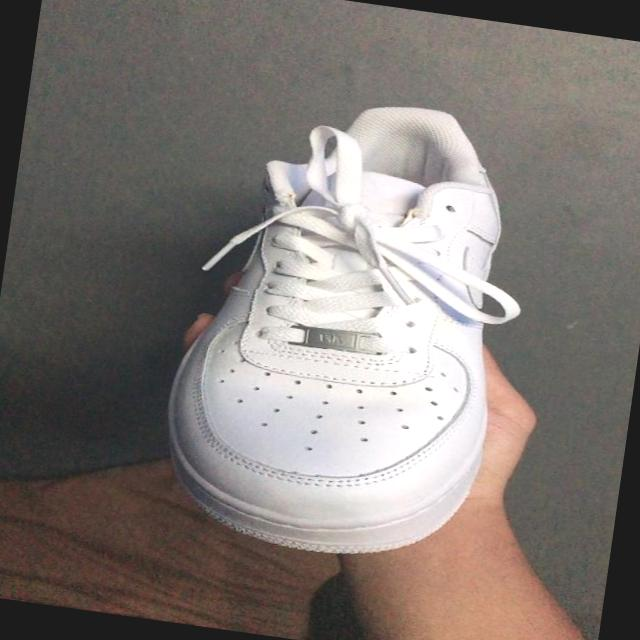nike_fake_airforce: (138, 72, 540, 578)
